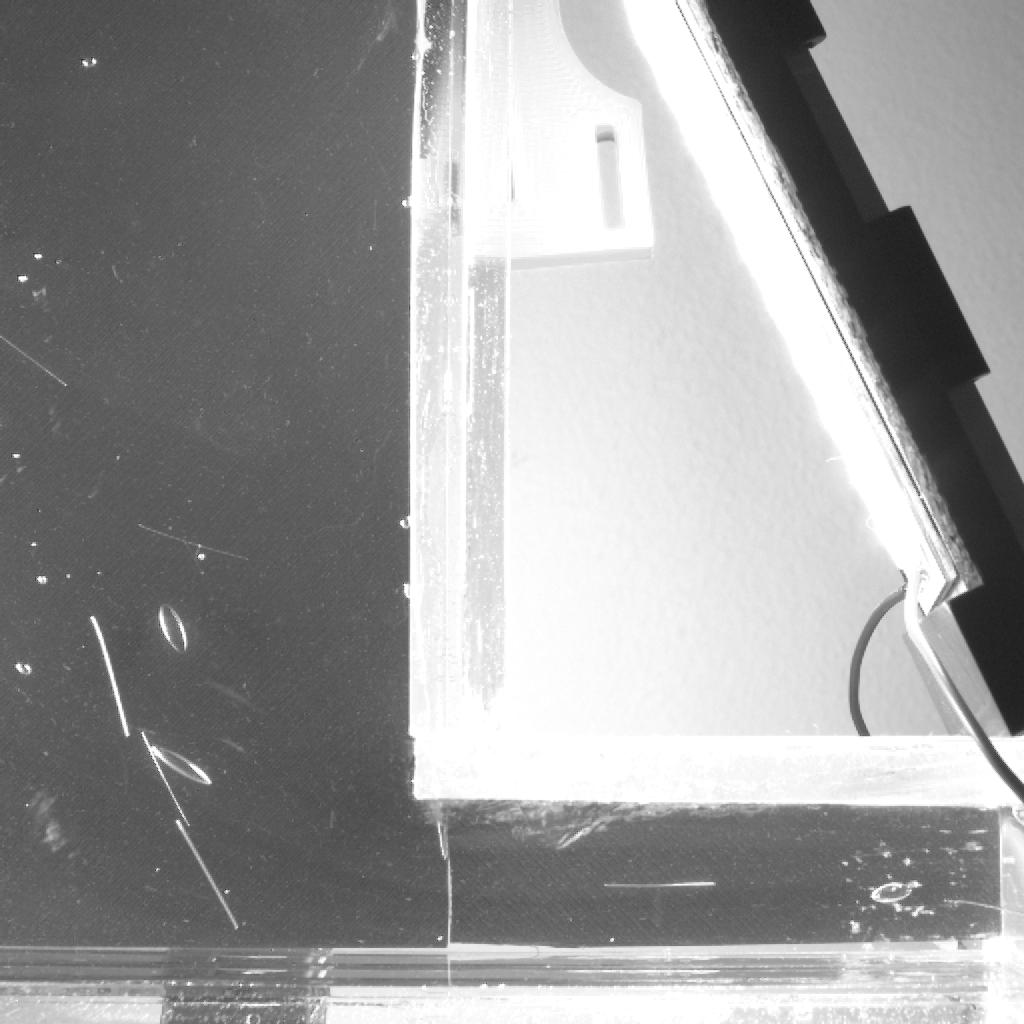Fiber: (176, 809, 242, 938), (88, 614, 131, 741), (133, 518, 251, 564), (139, 730, 192, 823), (1, 329, 71, 390), (946, 896, 1023, 926), (602, 880, 718, 890)
